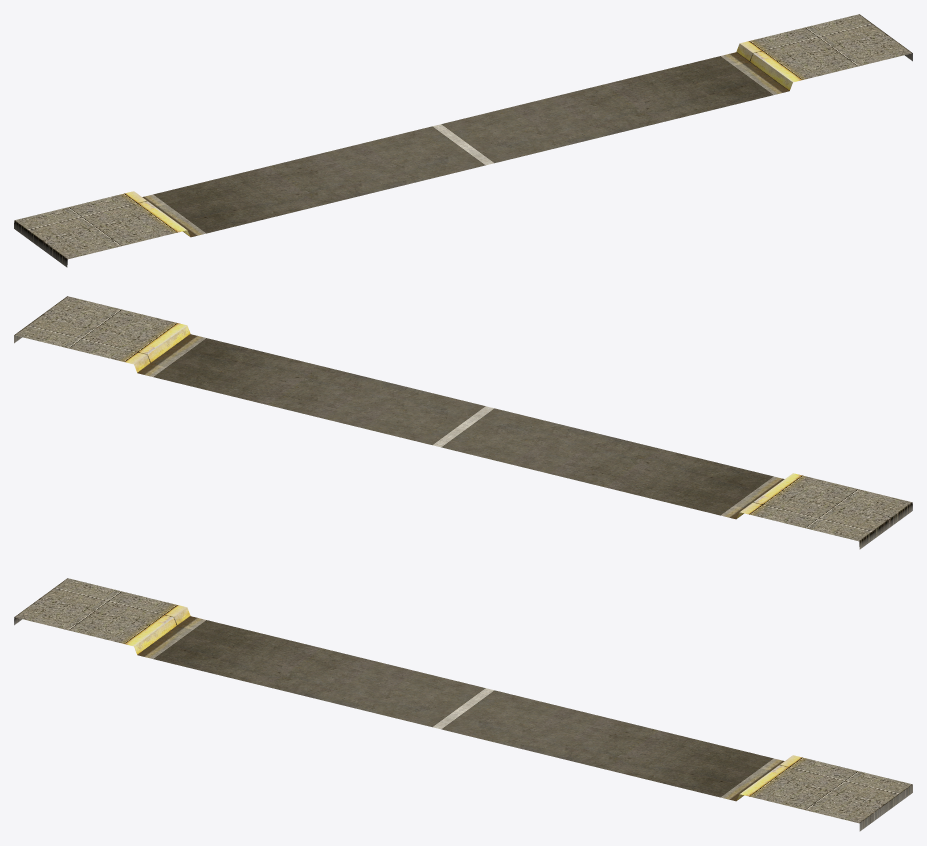
The model's file is Road3_Straight_F_un8.fbx.
The picture shows the model from 3 angles, top to bottom: view 1: azimuth 30°, elevation 25°; view 2: azimuth 150°, elevation 25°; view 3: azimuth 330°, elevation 25°; orthographic projection.
Visible parts, largest first — view 1: Road_Straight_F; view 2: Road_Straight_F; view 3: Road_Straight_F.
Part boxes in pixels (x1,y1,x2,y2): Road_Straight_F: [14, 14, 912, 267]; Road_Straight_F: [14, 296, 912, 549]; Road_Straight_F: [14, 578, 912, 831].
Size of the model in its own units: 888 by 8.4 by 97.16.
